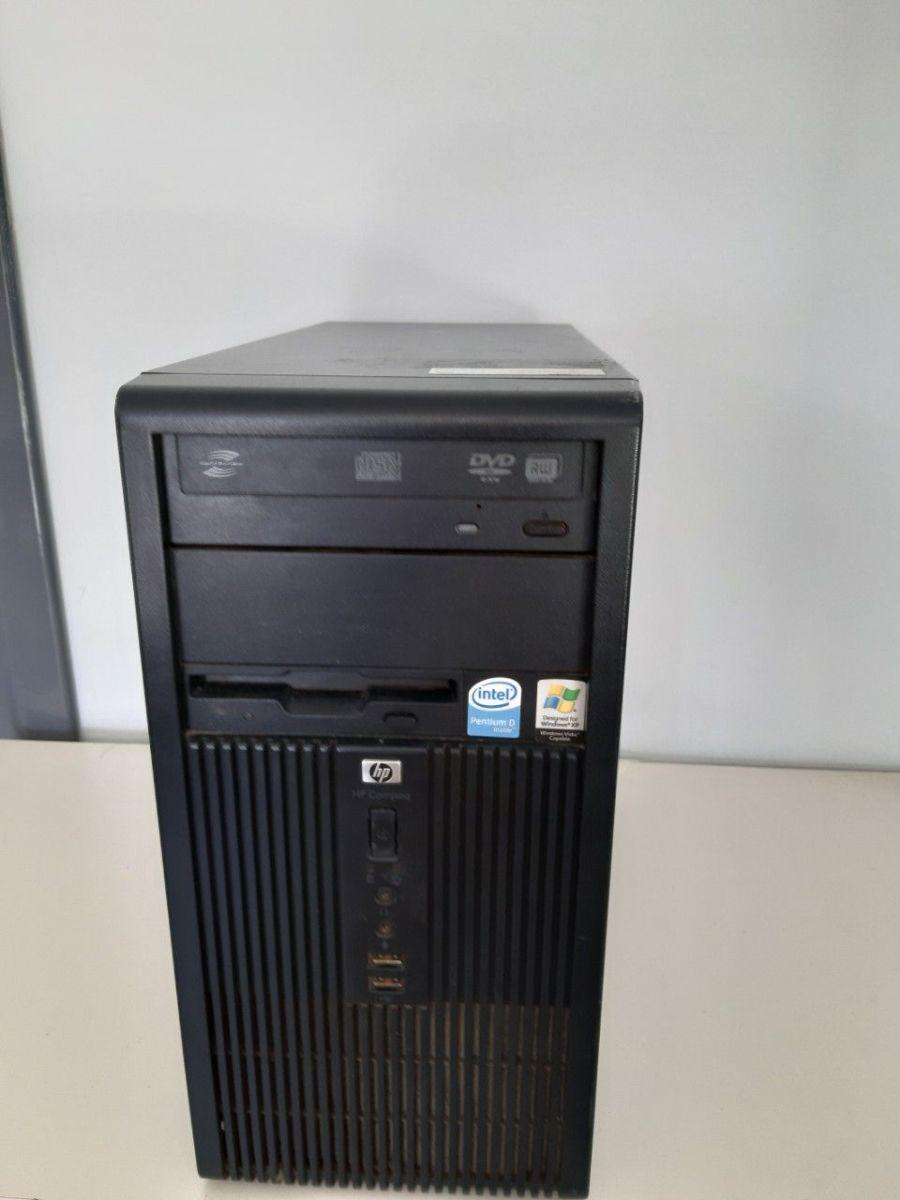DESKTOP PC: (118, 209, 645, 1200)
